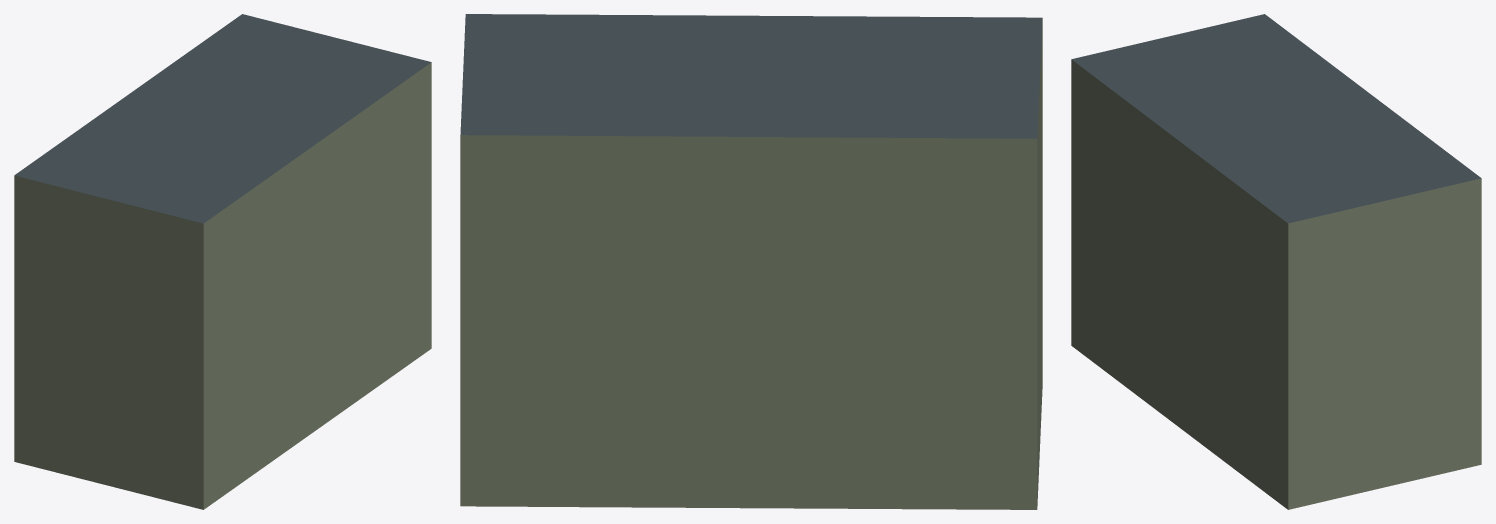
Rendered from nyc-1014502-0.glb.
3 renders of one model, left to right at view 1: azimuth 30°, elevation 25°; view 2: azimuth 150°, elevation 25°; view 3: azimuth 270°, elevation 25°, orthographic. The views are drawn at different scales.
Visible parts, largest first — view 1: nyc-1014502-0; view 2: nyc-1014502-0; view 3: nyc-1014502-0.
Boxes of the visible parts, bbox=[...] form: nyc-1014502-0: bbox=[14, 14, 431, 509]; nyc-1014502-0: bbox=[460, 14, 1042, 509]; nyc-1014502-0: bbox=[1071, 14, 1481, 509].
Bounding box in the file's own units: 33.98 × 21.66 × 28.12.
